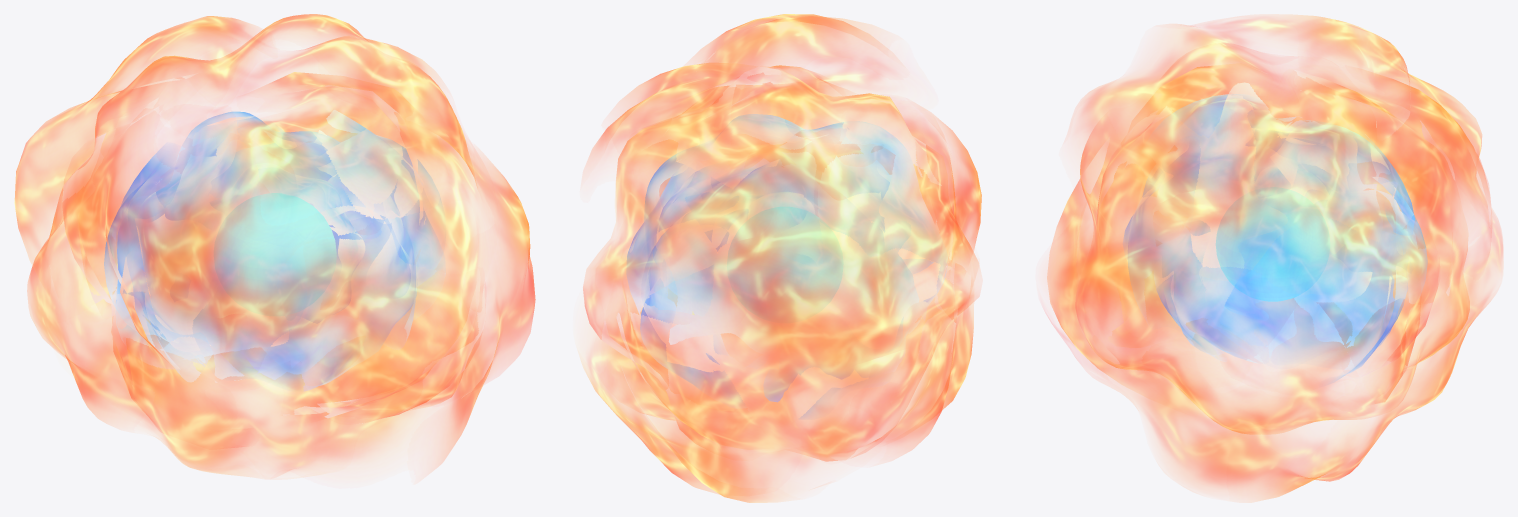
Rendered from forever_and_ever.glb.
3 renders of one model, left to right at view 1: azimuth 30°, elevation 25°; view 2: azimuth 150°, elevation 25°; view 3: azimuth 270°, elevation 25°, orthographic. The views are drawn at different scales.
Parts seen in each view (by area): view 1: Supernova_RingWave.000, Supernova_RingWave.003, Supernova_RingWave.009, Supernova_RingWave.008, Supernova_RingWave.006, Supernova_Core, Supernova_RingWave.002, Supernova_RingWave.001, Supernova_RingWave.004; view 2: Supernova_RingWave.003, Supernova_RingWave.000, Supernova_RingWave.008, Supernova_RingWave.009, Supernova_RingWave.006, Supernova_Core, Supernova_RingWave.002, Supernova_RingWave.001; view 3: Supernova_RingWave.003, Supernova_RingWave.000, Supernova_RingWave.008, Supernova_RingWave.009, Supernova_RingWave.006, Supernova_RingWave.002, Supernova_RingWave.001, Supernova_Core.
Part boxes in pixels (x1,y1,x2,y2): Supernova_RingWave.000: [27, 14, 483, 476]; Supernova_RingWave.003: [14, 16, 535, 469]; Supernova_RingWave.009: [62, 114, 484, 420]; Supernova_RingWave.008: [111, 72, 428, 428]; Supernova_RingWave.006: [104, 139, 440, 345]; Supernova_Core: [214, 193, 336, 315]; Supernova_RingWave.002: [116, 119, 433, 354]; Supernova_RingWave.001: [140, 111, 411, 384]; Supernova_RingWave.004: [231, 170, 360, 265]; Supernova_RingWave.003: [579, 14, 931, 502]; Supernova_RingWave.000: [585, 62, 973, 459]; Supernova_RingWave.008: [583, 66, 980, 461]; Supernova_RingWave.009: [609, 106, 981, 449]; Supernova_RingWave.006: [627, 164, 911, 315]; Supernova_Core: [727, 207, 843, 319]; Supernova_RingWave.002: [640, 114, 944, 415]; Supernova_RingWave.001: [657, 165, 884, 250]; Supernova_RingWave.003: [1051, 14, 1503, 502]; Supernova_RingWave.000: [1047, 72, 1490, 396]; Supernova_RingWave.008: [1129, 64, 1438, 403]; Supernova_RingWave.009: [1075, 53, 1469, 434]; Supernova_RingWave.006: [1123, 147, 1426, 347]; Supernova_RingWave.002: [1176, 95, 1404, 376]; Supernova_RingWave.001: [1158, 123, 1367, 357]; Supernova_Core: [1215, 187, 1329, 301].
Size of the model in its own units: 2.67 by 2.97 by 2.95.
3 materials, 2 textured.
